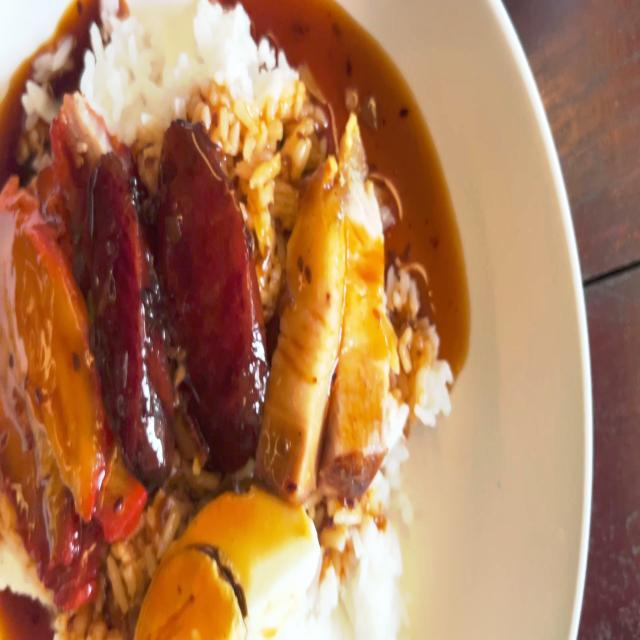boiled_egg: (138, 483, 317, 640)
chainese_sausage: (96, 143, 258, 469), (165, 123, 262, 455), (87, 151, 164, 460)
crispy_pork: (275, 119, 392, 494), (337, 126, 392, 499), (274, 156, 329, 483)
red_pork: (0, 143, 102, 586), (14, 201, 104, 508), (56, 72, 108, 186)
red_pork_and_crispy_pork: (0, 0, 453, 640)
rice: (80, 0, 317, 128), (320, 495, 409, 640), (85, 510, 171, 640)
